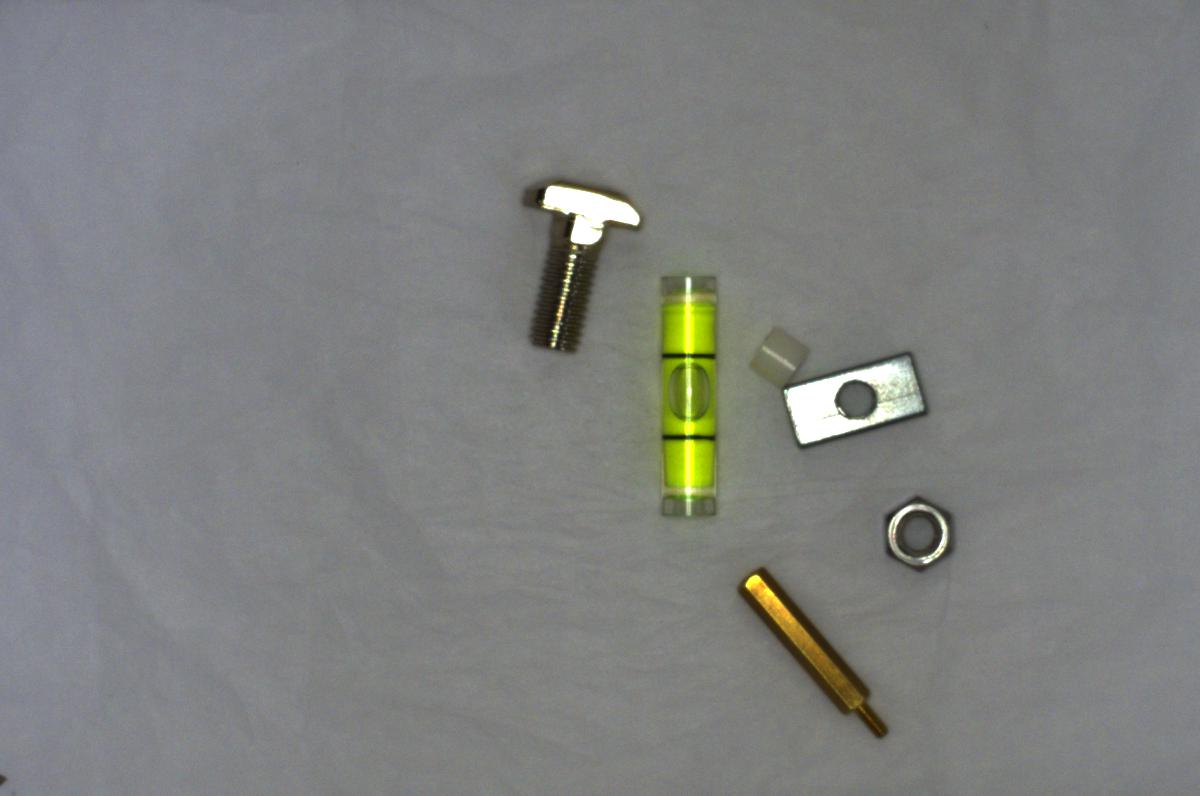Hexagon nut: (871, 487, 960, 582)
Hexagon pillar: (729, 558, 901, 749)
Horizontal bubble: (651, 259, 732, 528)
Plastic cushion pillar: (739, 315, 812, 389)
Rectangular nut: (774, 345, 935, 449)
T-shaped screw: (505, 165, 644, 363)
